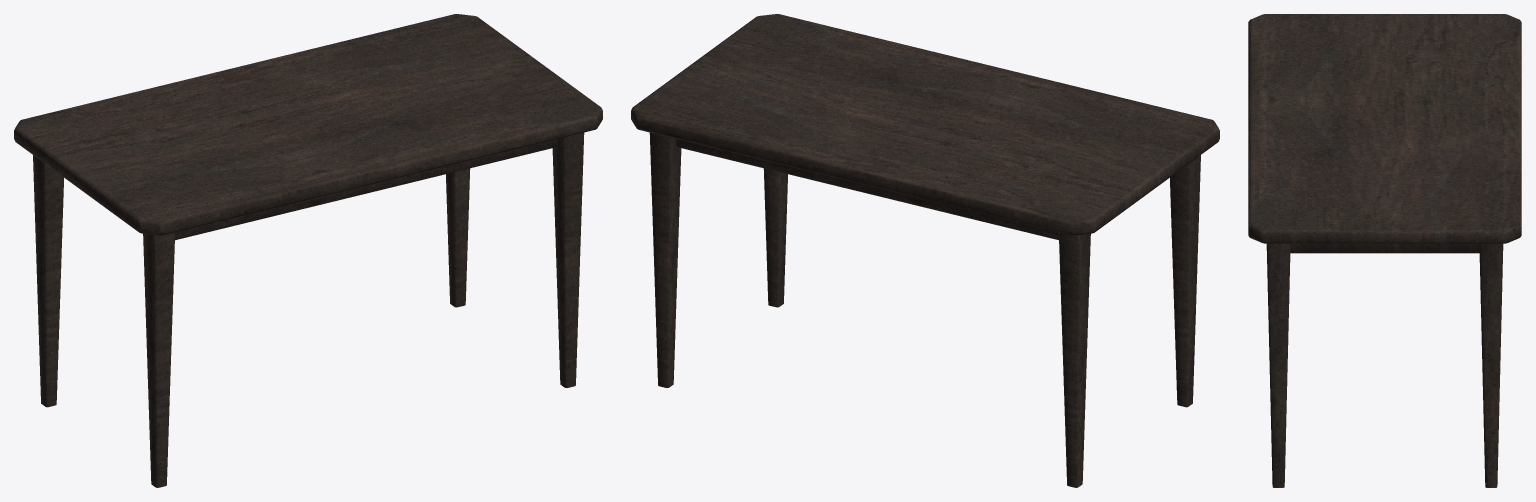
Rendered from table_large_1.glb.
3 renders of one model, left to right at view 1: azimuth 30°, elevation 25°; view 2: azimuth 150°, elevation 25°; view 3: azimuth 270°, elevation 25°, orthographic. The views are drawn at different scales.
Parts seen in each view (by area): view 1: table_large_1; view 2: table_large_1; view 3: table_large_1.
Part boxes in pixels (box(x1,y1,x2,y2)): table_large_1: box(14, 14, 602, 487); table_large_1: box(631, 14, 1219, 487); table_large_1: box(1248, 14, 1521, 487).
Size of the model in its own units: 1.7 by 0.97 by 0.9.
Materials: 1 (1 with a texture image).
